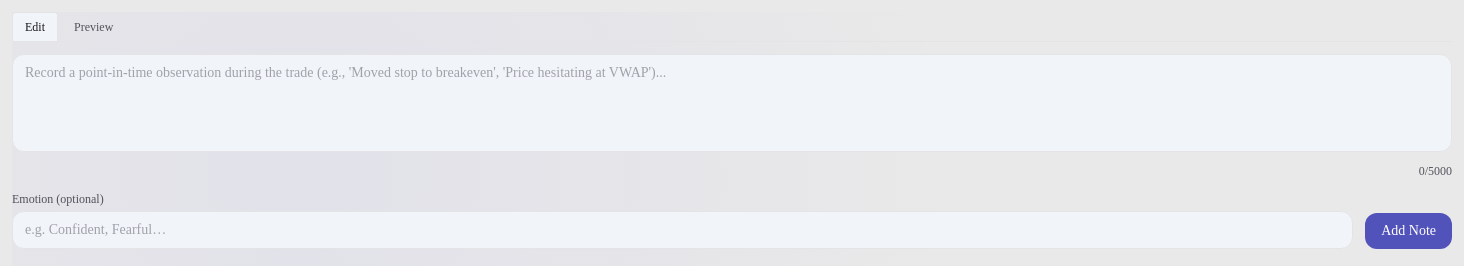
NoteForm › Edit / Preview tab toggle › shows empty preview message when Preview tab is clicked with empty content
Click the button "Preview". click: (94, 26)
box: [62,12,125,41]
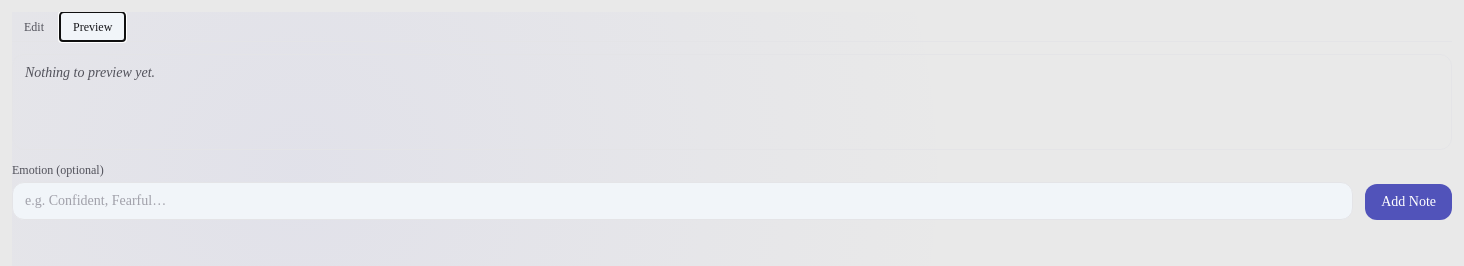
expect the text "Nothing to preview yet." is shown: met, box [25,65,155,80]
